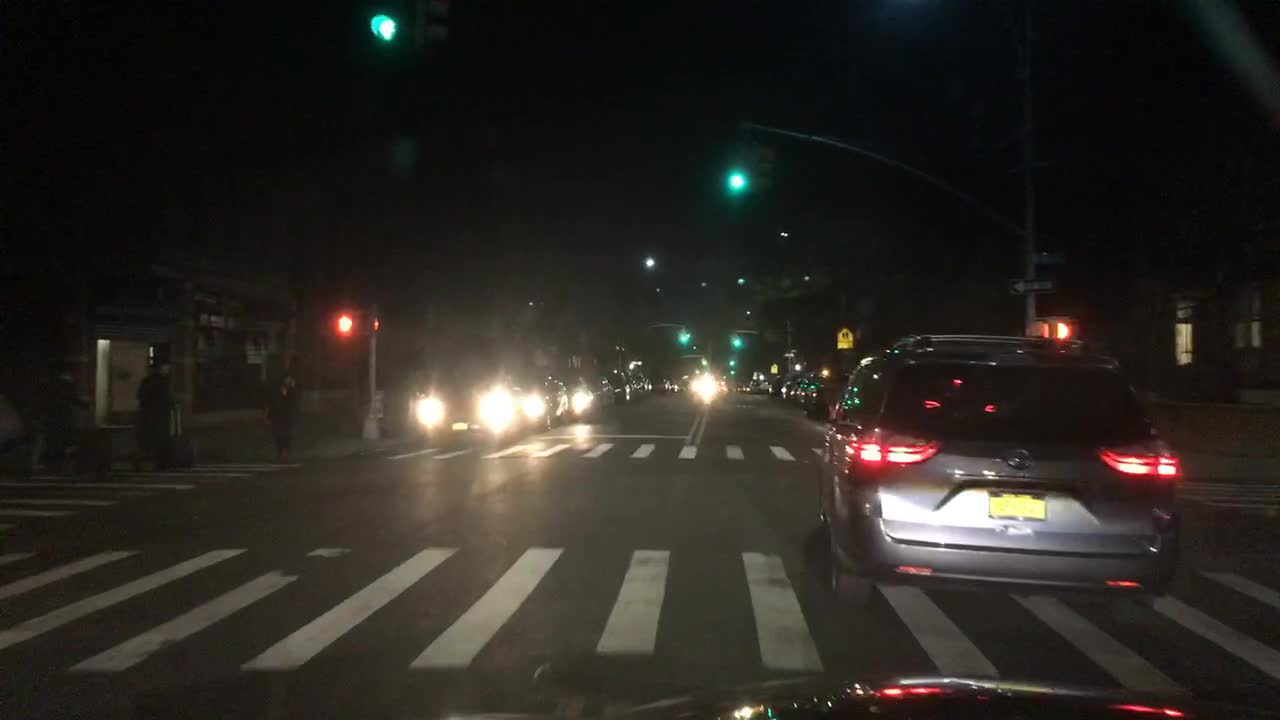car: (816, 335, 1177, 621), (420, 366, 520, 446), (517, 374, 570, 430), (799, 374, 850, 421), (560, 374, 595, 420), (586, 374, 616, 406), (606, 369, 631, 400), (792, 380, 819, 405), (628, 369, 651, 394), (692, 374, 717, 395), (759, 376, 778, 395), (778, 380, 796, 400), (650, 378, 671, 393), (717, 378, 733, 393), (668, 376, 680, 393), (678, 378, 690, 391), (741, 381, 752, 395), (751, 380, 761, 394), (734, 384, 744, 394)
person: (33, 363, 93, 474), (132, 356, 178, 471), (262, 371, 300, 466)
traffic light: (370, 2, 408, 52), (411, 1, 449, 47), (749, 144, 777, 192), (726, 142, 747, 189), (335, 309, 354, 336), (1030, 321, 1048, 340), (1055, 320, 1071, 341), (370, 315, 381, 334), (676, 330, 690, 344), (698, 356, 711, 371), (731, 334, 741, 348), (726, 358, 736, 369)
traffic sign: (1175, 323, 1192, 364), (1009, 278, 1055, 293), (1033, 249, 1065, 264), (837, 326, 852, 350), (768, 364, 779, 375), (783, 351, 794, 360)
